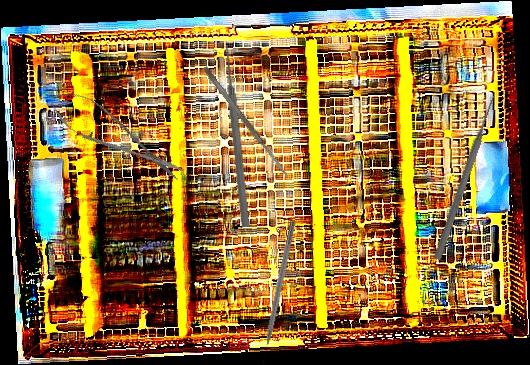Hook Surgical: (258, 220, 297, 364)
Micro Scissor: (38, 79, 192, 192)
Pusher: (432, 93, 499, 262), (220, 44, 253, 228)
Spatula Surgical: (201, 65, 291, 180)
